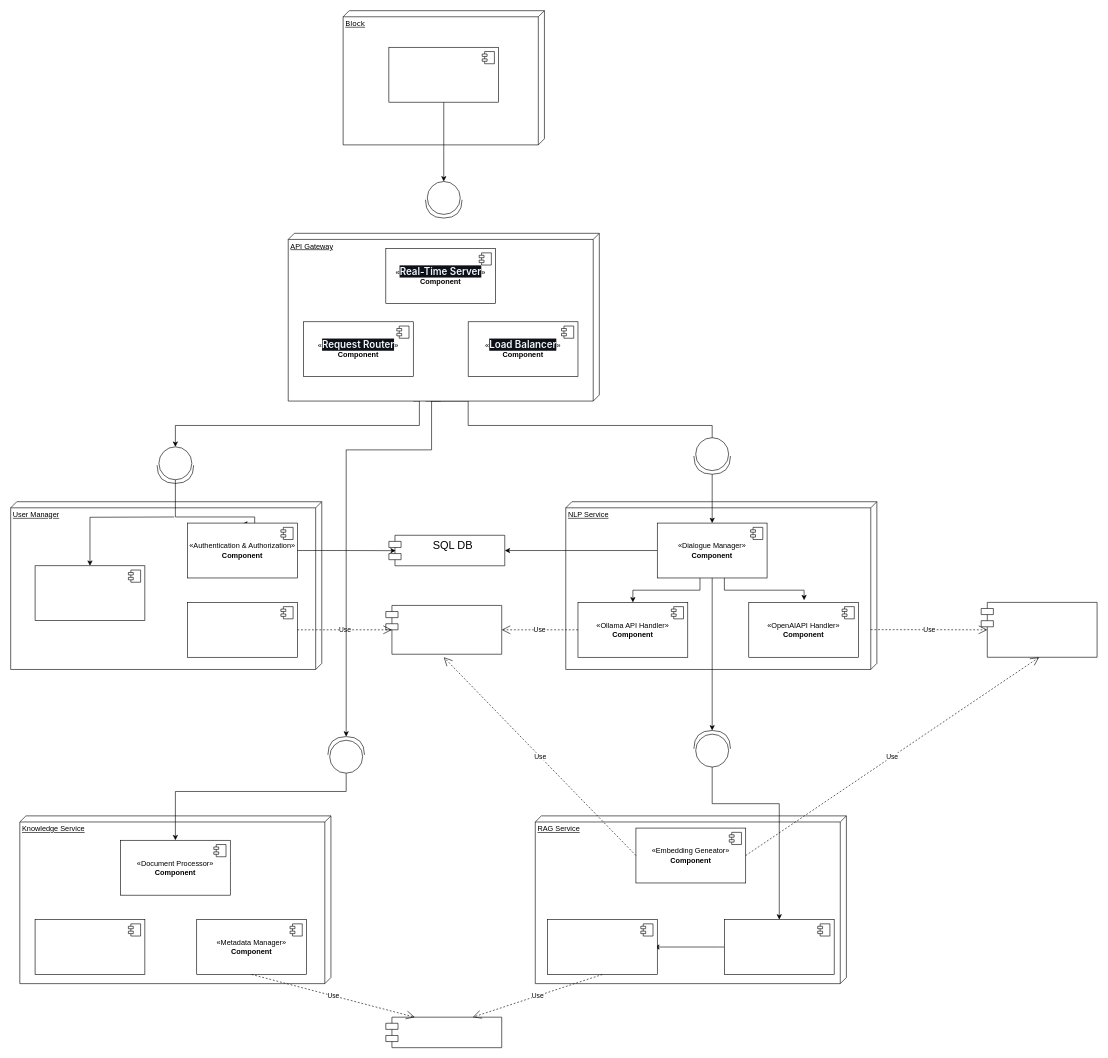
Some shapes in this 1108 by 1058 pixel diagram are drawn without their labels. The shapes that lost their labels are listed below. From the top down, each one's centre as x and y in pixels, then its label:
At point (443, 74): "«Client-Side» Component".
At point (89, 593): "« Session Manager » Component".
At point (242, 629): "« Admin Manger » Component".
At point (443, 629): "Ollama Module".
At point (1039, 629): "OpenAI API".
At point (89, 946): "«Data Indexer» Component".
At point (602, 946): "«Vector Store manager» Component".
At point (779, 946): "«Context Aggregator» Component".
At point (443, 1032): "Vector DB".
